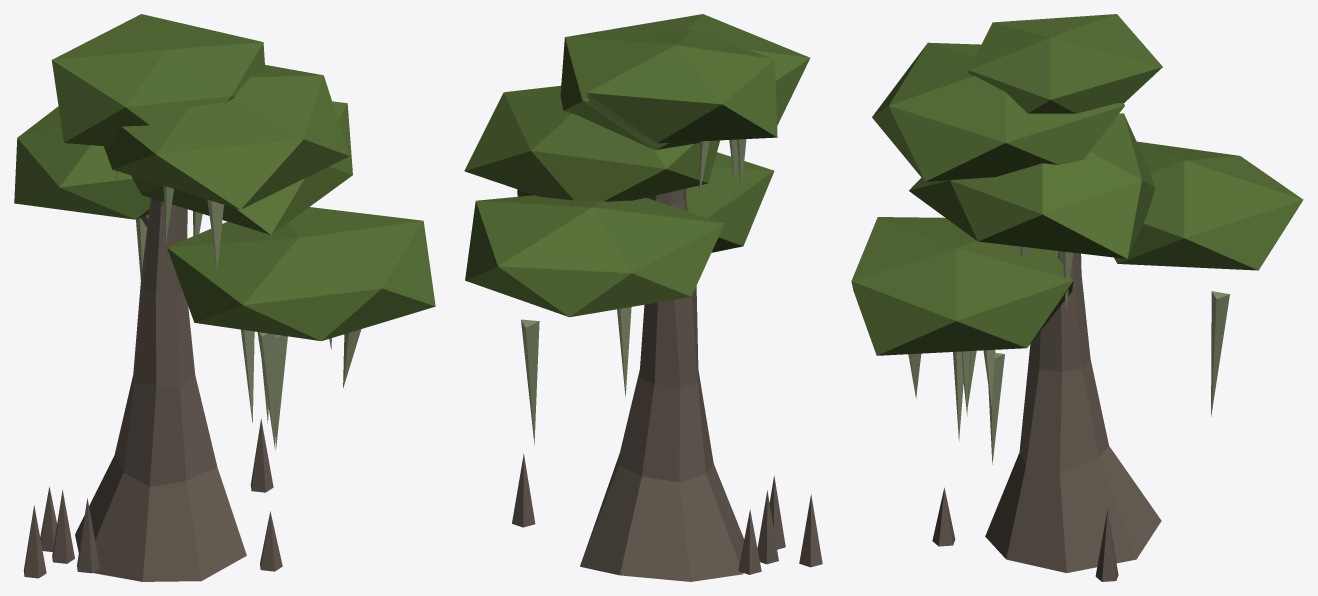
Rendered from Tree_Cypress_A.glb.
3 renders of one model, left to right at view 1: azimuth 30°, elevation 25°; view 2: azimuth 150°, elevation 25°; view 3: azimuth 270°, elevation 25°, orthographic.
Parts seen in each view (by area): view 1: Tree_Cypress_A; view 2: Tree_Cypress_A; view 3: Tree_Cypress_A.
Part boxes in pixels (x1=…): Tree_Cypress_A: x1=14, y1=14, x2=435, y2=581; Tree_Cypress_A: x1=464, y1=14, x2=822, y2=581; Tree_Cypress_A: x1=851, y1=14, x2=1303, y2=581.
Bounding box in the file's own units: 3.28 × 4.5 × 3.69.
